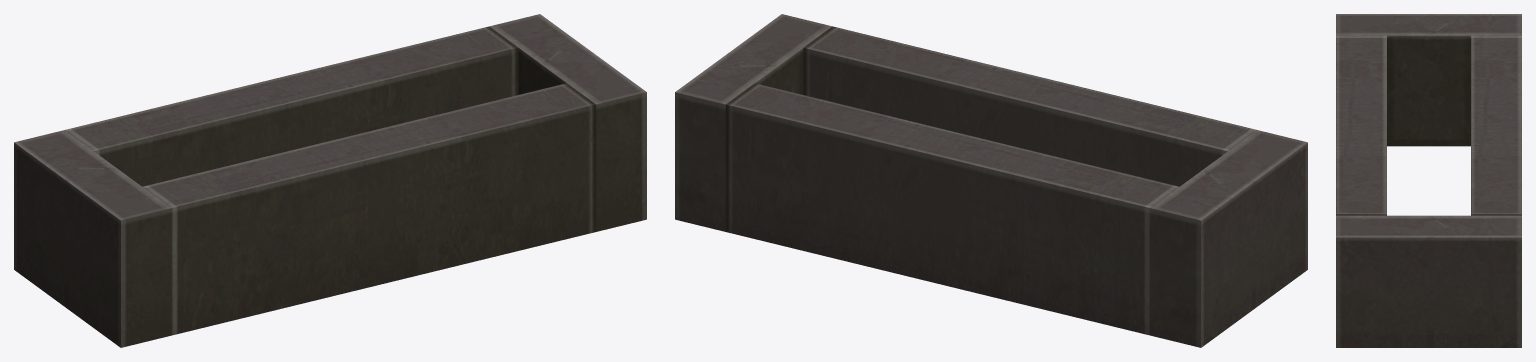
File: BladeFrame.FBX
The picture shows the model from 3 angles, left to right: view 1: azimuth 30°, elevation 25°; view 2: azimuth 150°, elevation 25°; view 3: azimuth 270°, elevation 25°; orthographic projection. The views are drawn at different scales.
Parts seen in each view (by area): view 1: BladeFrame; view 2: BladeFrame; view 3: BladeFrame.
Boxes of the visible parts, x1,y1,x2,y2 form: BladeFrame: (14, 14, 646, 347); BladeFrame: (675, 14, 1307, 347); BladeFrame: (1336, 14, 1521, 347).
Bounding box in the file's own units: 68.89 × 15.94 × 24.23.
